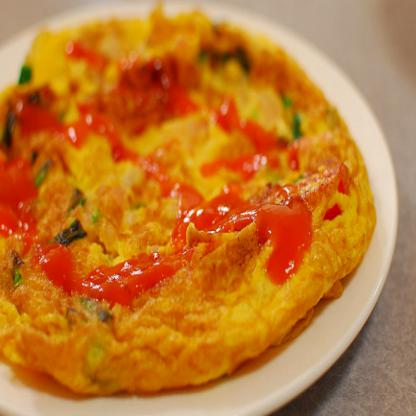Omelette: (0, 14, 361, 392)
